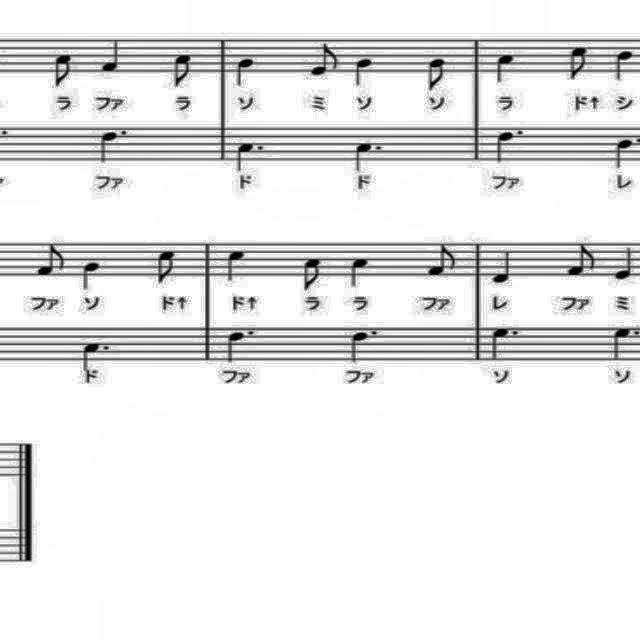Eighth-note: (422, 242, 463, 282), (34, 238, 68, 282), (565, 238, 599, 280), (306, 42, 344, 78), (562, 42, 592, 84), (170, 50, 200, 90), (422, 55, 450, 97), (48, 50, 76, 90), (153, 246, 179, 288), (298, 255, 326, 293)
Quarter-dot: (95, 125, 134, 169), (491, 122, 527, 166), (231, 138, 269, 176), (488, 324, 524, 364), (222, 326, 258, 364), (350, 324, 382, 364), (352, 138, 386, 174), (79, 336, 113, 372), (611, 325, 640, 363), (639, 325, 640, 363)
Quarter-note: (99, 33, 125, 75), (229, 52, 259, 88), (613, 244, 637, 288), (492, 54, 520, 90), (492, 248, 516, 286), (612, 46, 636, 82), (348, 254, 372, 290), (612, 136, 636, 172), (226, 246, 248, 284), (81, 258, 103, 294), (354, 54, 374, 92)
